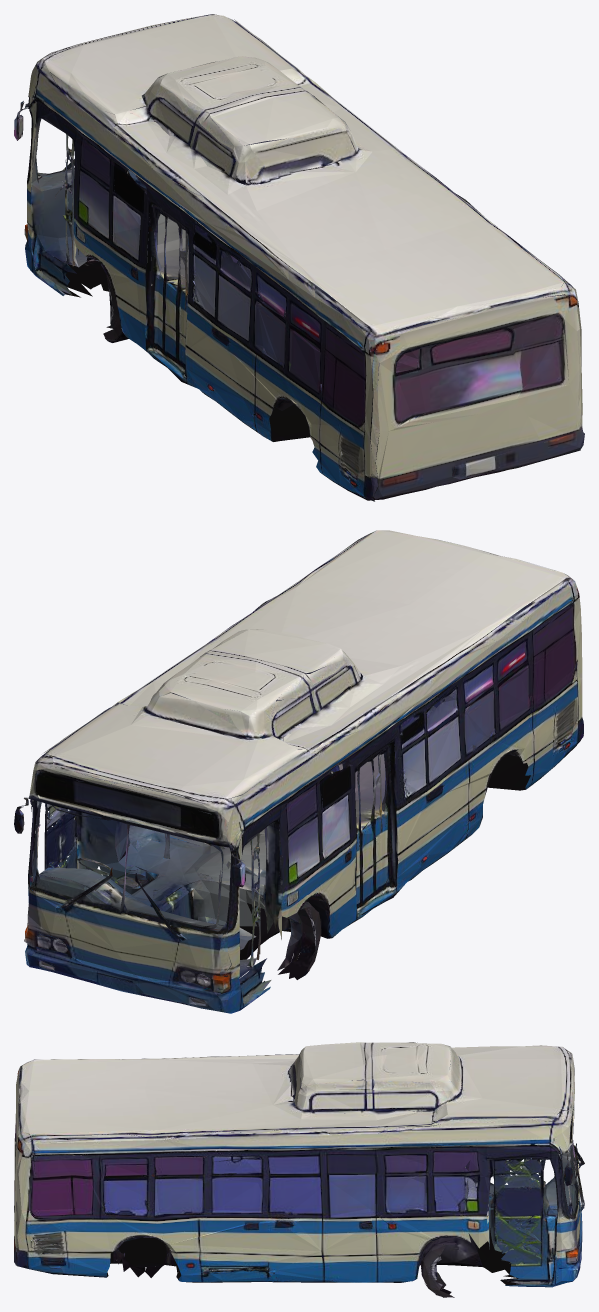
File: bus_body.glb
The picture shows the model from 3 angles, top to bottom: view 1: azimuth 30°, elevation 25°; view 2: azimuth 150°, elevation 25°; view 3: azimuth 270°, elevation 25°; orthographic projection. The views are drawn at different scales.
Visible parts, largest first — view 1: geometry_0; view 2: geometry_0; view 3: geometry_0.
Part boxes in pixels (x1=…): geometry_0: x1=14, y1=14, x2=584, y2=501; geometry_0: x1=14, y1=530, x2=583, y2=1013; geometry_0: x1=14, y1=1042, x2=584, y2=1297.
Bounding box in the file's own units: 0.3665 × 0.3933 × 0.9991.
1 material, 1 textured.
